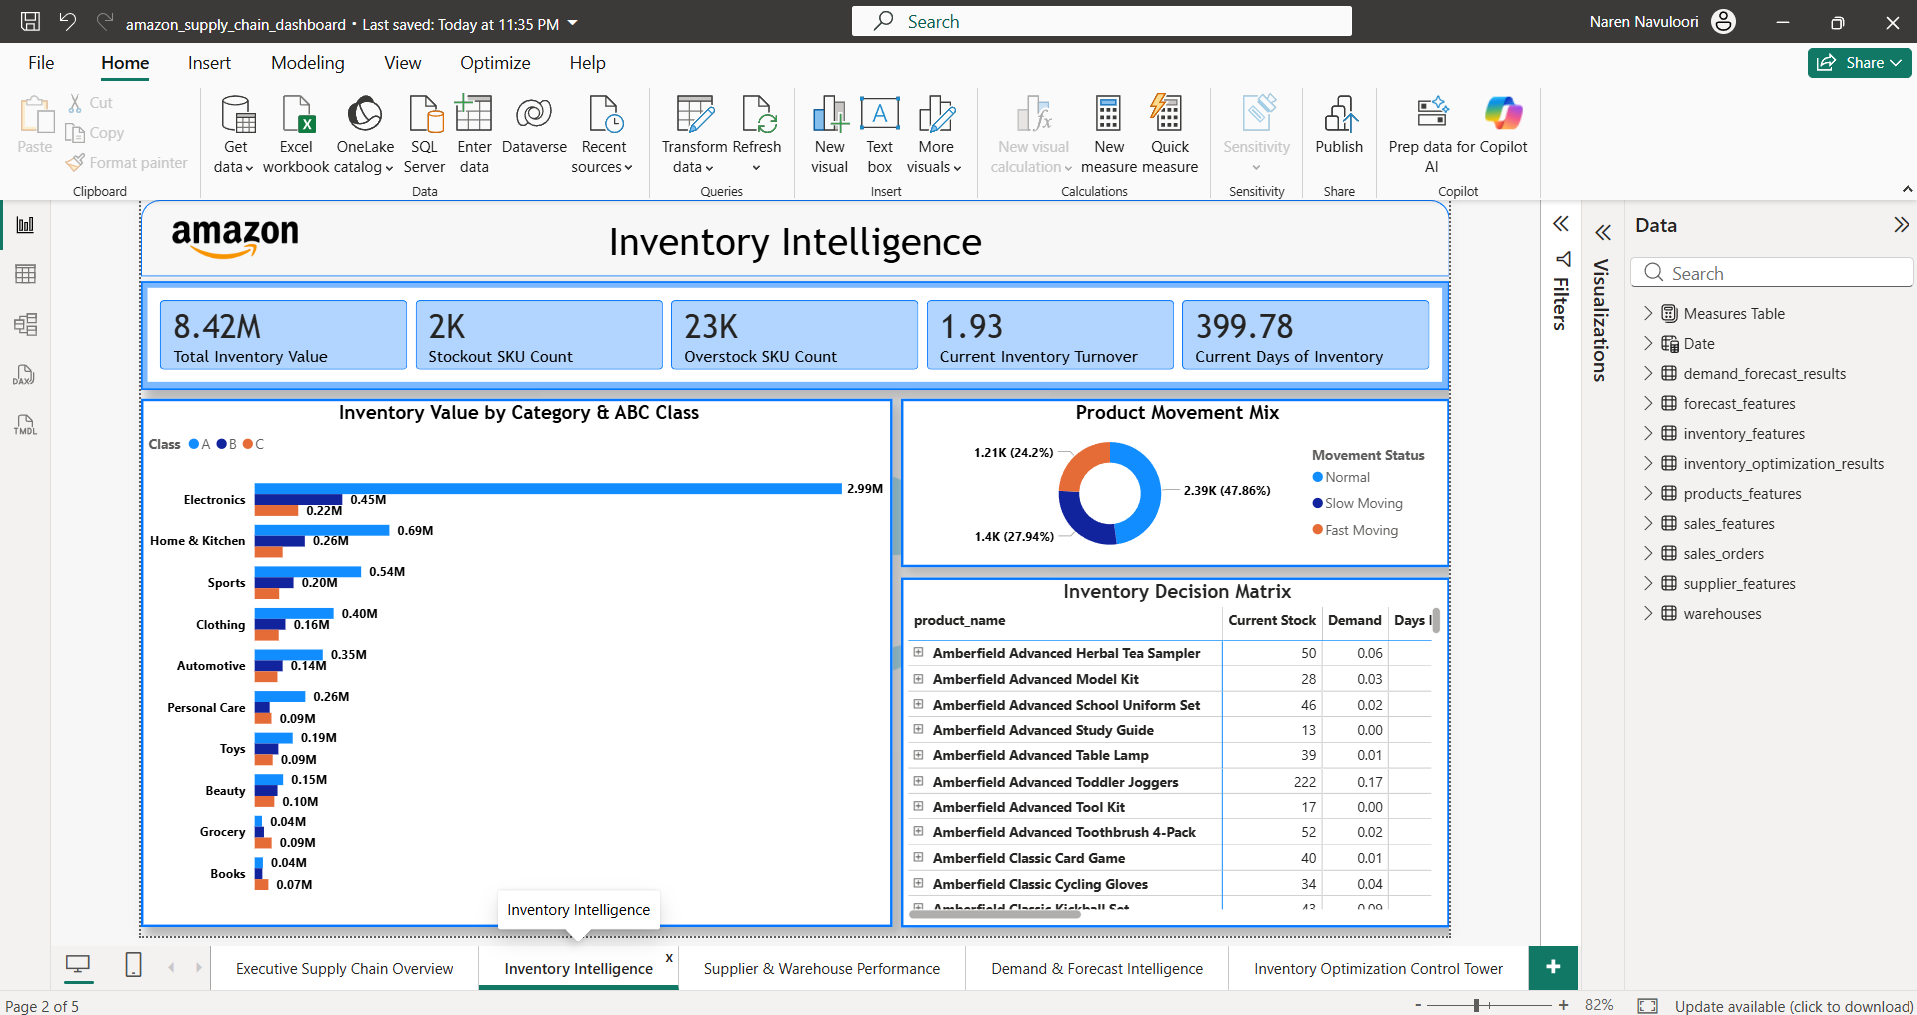

This screenshot's page, from the dashboard's own definition file:
{"tool":"powerbi","page":{"name":"Inventory Intelligence","canvas":[1280,720],"ordinal":1},"visuals":[{"type":"shape","box":[0,0,1280.2,74.9],"z":0},{"type":"image","box":[11,17.1,160.2,41.6],"z":1000},{"type":"cardVisual","fields":{"Data":["Measures Table.Total Inventory Value","Measures Table.Stockout SKU Count","Measures Table.Overstock SKU Count","Measures Table.Current Inventory Turnover","Measures Table.Current Days of Inventory"]},"box":[0,79.5,1280.3,106.4],"z":2000},{"type":"clusteredBarChart","title":"Inventory Value by Category & ABC Class","fields":{"Category":["products_features.category"],"Y":["Measures Table.Total Inventory Value"],"Series":["products_features.ABC_class"]},"box":[0,195,735.1,516.6],"z":3000},{"type":"donutChart","title":"Product Movement Mix","fields":{"Category":["products_features.Movement Status"],"Y":["CountNonNull(products_features.product_id)"]},"box":[743.8,195,536.4,165.2],"z":4000},{"type":"pivotTable","title":"Inventory Decision Matrix","fields":{"Rows":["products_features.product_name","warehouses.warehouse_name"],"Values":["Measures Table.Optimization Current Stock","Measures Table.Planning Daily Demand","Measures Table.Current Days of Inventory","Measures Table.Optimization Reorder Point","Measures Table.Recommended Action","Measures Table.Stockout Risk Label"]},"box":[743.8,368.8,536.4,342.7],"z":5000}]}

Visuals, with their boxes on the page's 1280x720 design canvas (x1, y1, x2, y2). These are canvas units, not pixel positions in the 1917x1015 screenshot, which may show the page scaled, cropped or inside an application window:
shape: 0, 0, 1280, 75
image: 11, 17, 171, 59
cardVisual - Measures Table.Total Inventory Value x Measures Table.Stockout SKU Count: 0, 80, 1280, 186
"Inventory Value by Category & ABC Class" clusteredBarChart: 0, 195, 735, 712
"Product Movement Mix" donutChart: 744, 195, 1280, 360
"Inventory Decision Matrix" pivotTable: 744, 369, 1280, 712
